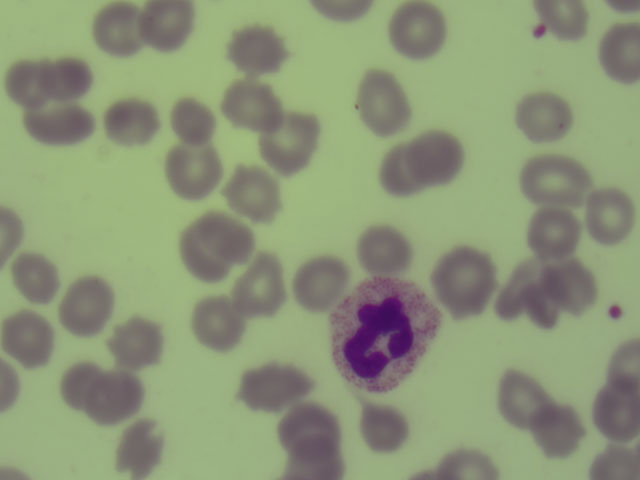Platelets: (525, 17, 554, 45), (604, 297, 627, 322)
RBC: (232, 360, 319, 411), (180, 213, 246, 274), (354, 71, 412, 136), (431, 248, 491, 309), (516, 155, 595, 201), (593, 380, 640, 439), (528, 207, 581, 258), (587, 190, 640, 241), (543, 261, 596, 312), (497, 267, 550, 318), (526, 405, 579, 456), (497, 374, 550, 425), (358, 227, 411, 278), (371, 144, 424, 195), (412, 129, 465, 180), (516, 92, 569, 143), (389, 5, 442, 56), (167, 146, 220, 197), (164, 95, 217, 146), (259, 118, 312, 169), (224, 82, 277, 133), (226, 167, 279, 218), (233, 262, 286, 313), (293, 258, 346, 309), (191, 297, 244, 348), (355, 401, 408, 452), (280, 404, 333, 455), (114, 425, 167, 476), (88, 373, 141, 424), (54, 363, 107, 414), (108, 315, 161, 366), (2, 313, 55, 364), (59, 280, 112, 331), (8, 249, 61, 300), (107, 97, 160, 148), (33, 95, 86, 146), (42, 52, 95, 103), (233, 24, 286, 75), (92, 1, 145, 52), (1, 56, 53, 107), (140, 1, 193, 51), (600, 22, 640, 86), (285, 440, 349, 480), (437, 445, 504, 480), (605, 334, 640, 397), (589, 445, 640, 480), (1, 204, 24, 268), (1, 360, 28, 413), (308, 1, 369, 19)
WBC: (334, 283, 427, 395)
